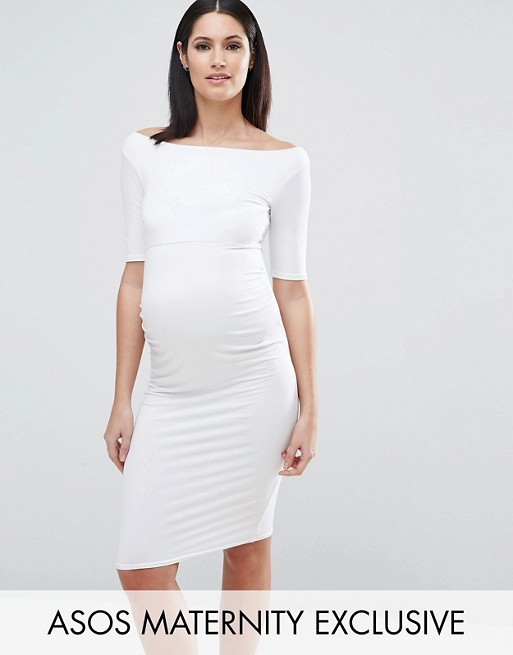C_dress: (107, 128, 317, 557)
